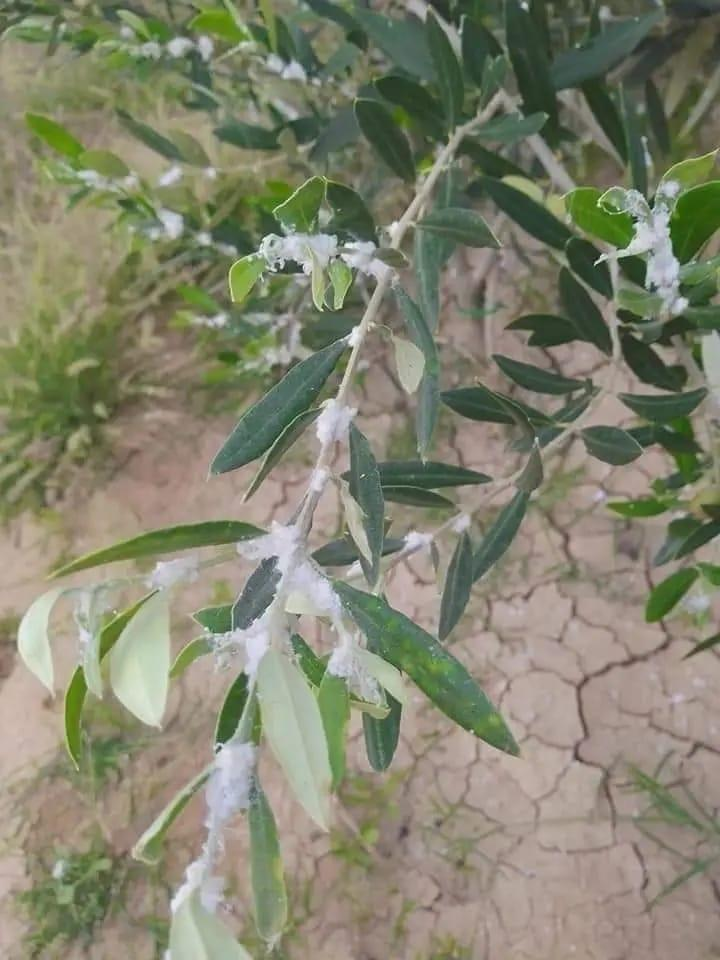Psyllid: (244, 520, 391, 703), (174, 744, 285, 902), (594, 189, 712, 335), (120, 30, 323, 90), (236, 217, 406, 276), (281, 393, 378, 451), (212, 624, 282, 690), (402, 510, 477, 554), (124, 204, 188, 247), (76, 163, 150, 200), (124, 559, 212, 590), (160, 164, 224, 190)
